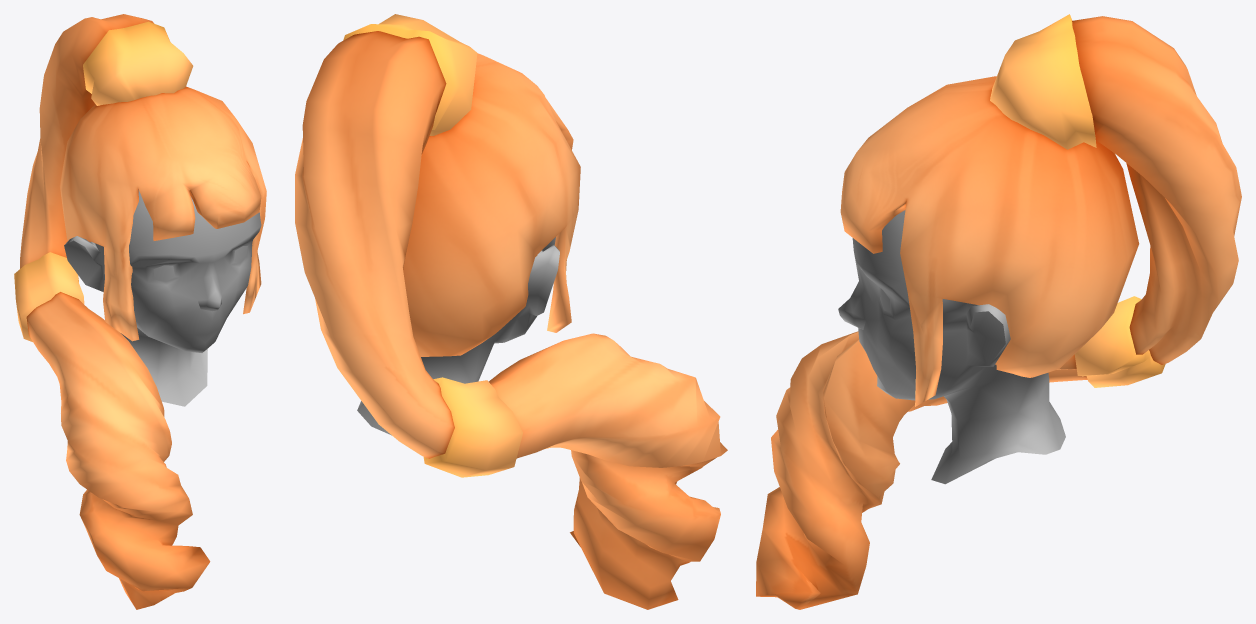
The model's file is doki-twisted-pony-tail.glb.
The picture shows the model from 3 angles, left to right: view 1: azimuth 30°, elevation 25°; view 2: azimuth 150°, elevation 25°; view 3: azimuth 270°, elevation 25°; orthographic projection. The views are drawn at different scales.
Visible parts, largest first — view 1: Twisted, Head_BaseMesh; view 2: Twisted, Head_BaseMesh; view 3: Twisted, Head_BaseMesh.
Part boxes in pixels (bbox=[...]): Twisted: bbox=[14, 14, 266, 609]; Head_BaseMesh: bbox=[64, 190, 261, 406]; Twisted: bbox=[295, 14, 727, 609]; Head_BaseMesh: bbox=[357, 237, 559, 435]; Twisted: bbox=[756, 14, 1241, 609]; Head_BaseMesh: bbox=[838, 210, 1065, 484].
Size of the model in its own units: 0.7864 by 1.51 by 1.05.
Materials: 2 (2 with a texture image).
